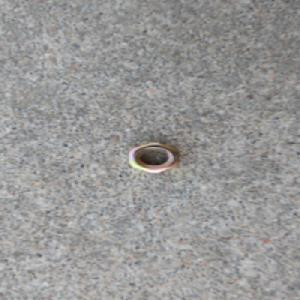Nut: (126, 141, 180, 174)
